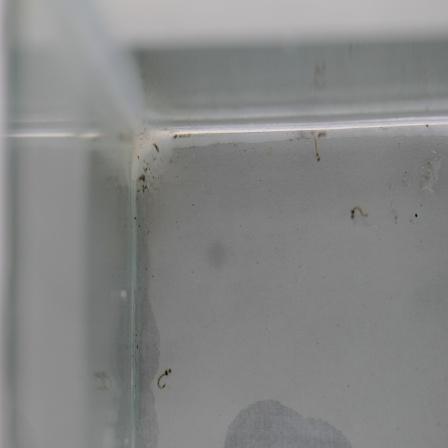Jentik-Nyamuk: (306, 124, 326, 170), (345, 203, 377, 225), (154, 366, 177, 391)
